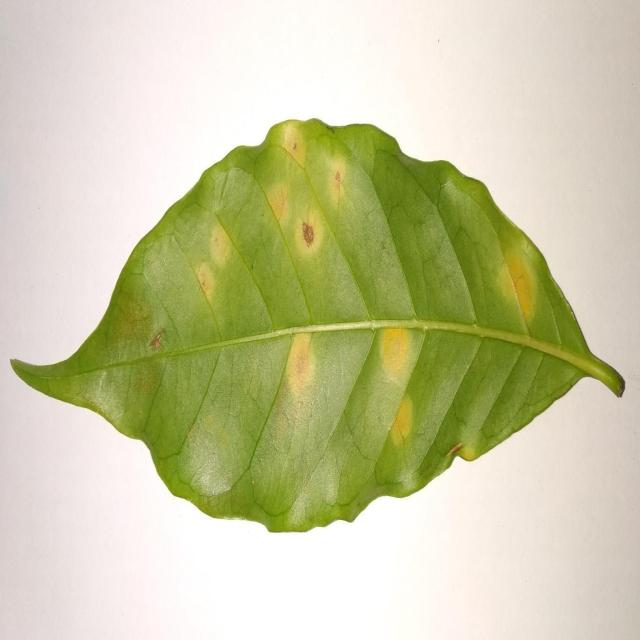rust: (501, 233, 538, 336), (285, 332, 319, 402), (382, 328, 415, 383), (295, 207, 326, 262), (327, 144, 349, 208), (209, 218, 235, 269), (390, 397, 412, 451), (283, 121, 307, 165), (197, 261, 216, 302), (267, 184, 288, 221), (445, 443, 475, 463), (149, 329, 165, 351)
